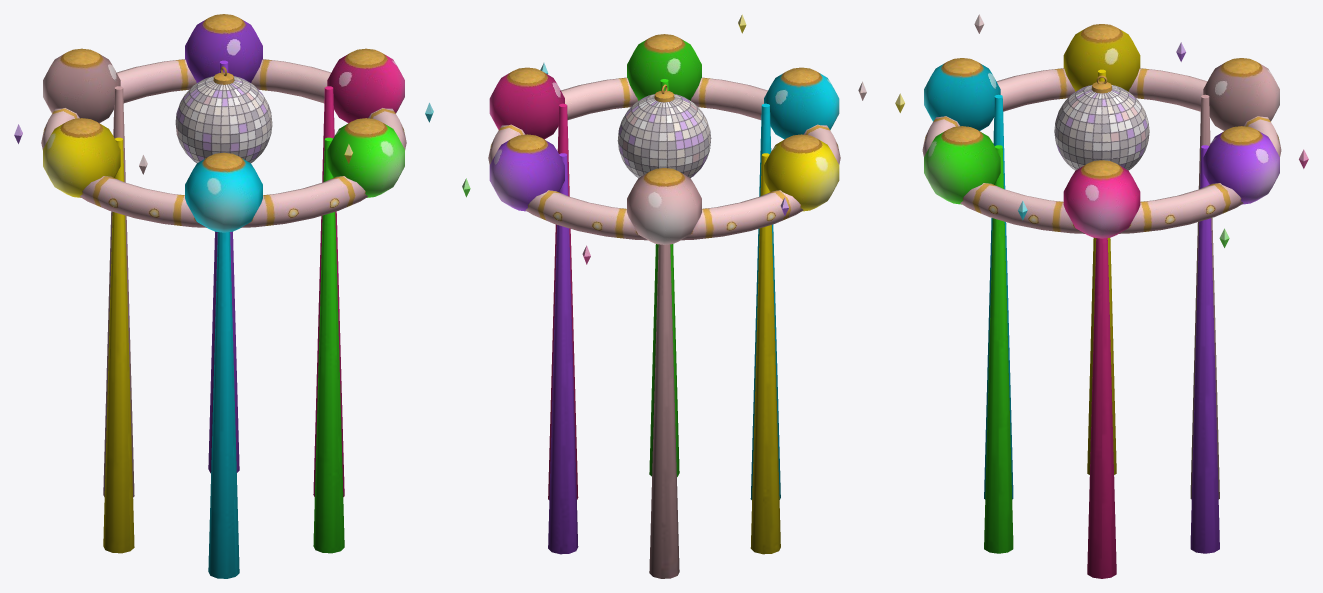
File: disco_lights.glb
3 renders of one model, left to right at view 1: azimuth 30°, elevation 25°; view 2: azimuth 150°, elevation 25°; view 3: azimuth 270°, elevation 25°, orthographic. The views are drawn at different scales.
Parts seen in each view (by area): view 1: Hoop, Beam1, Beam3, Beam2, MirrorBall, Orb2, Orb3, Orb1, Orb0, Orb4, Orb5, Beam4 (+2 smaller); view 2: Hoop, Beam3, Beam5, Beam4, MirrorBall, Orb4, Orb3, Orb5, Orb0, Orb2, Orb1, Beam2 (+2 smaller); view 3: Hoop, Beam1, Beam5, Beam0, MirrorBall, Orb0, Orb1, Orb5, Orb2, Orb4, Orb3, Beam2 (+2 smaller).
Part boxes in pixels (x1,y1,x2,y2): Hoop: (41, 59, 406, 227); Beam1: (313, 137, 344, 553); Beam3: (103, 137, 134, 553); Beam2: (208, 232, 239, 578); MirrorBall: (175, 76, 272, 163); Orb2: (185, 152, 262, 232); Orb3: (43, 118, 120, 197); Orb1: (327, 118, 404, 197); Orb0: (327, 48, 404, 123); Orb4: (43, 48, 120, 123); Orb5: (185, 14, 262, 82); Beam4: (103, 86, 134, 497); Hoop: (488, 77, 840, 240); Beam3: (750, 153, 780, 554); Beam5: (548, 153, 578, 554); Beam4: (649, 244, 679, 578); MirrorBall: (617, 94, 711, 177); Orb4: (627, 168, 701, 244); Orb3: (764, 134, 839, 211); Orb5: (489, 134, 564, 211); Orb0: (489, 67, 564, 139); Orb2: (764, 67, 839, 139); Orb1: (627, 34, 701, 100); Beam2: (750, 103, 780, 499); Hoop: (922, 68, 1281, 233); Beam1: (984, 145, 1013, 553); Beam5: (1190, 145, 1219, 553); Beam0: (1087, 238, 1116, 578); MirrorBall: (1054, 85, 1149, 170); Orb0: (1063, 160, 1140, 238); Orb1: (924, 126, 1000, 204); Orb5: (1203, 126, 1279, 204); Orb2: (924, 58, 1000, 130); Orb4: (1203, 58, 1279, 130); Orb3: (1063, 24, 1140, 91); Beam2: (984, 94, 1013, 499).
Bounding box in the file's own units: 2.85 × 3.51 × 2.95.
Materials: 7 (7 with a texture image).
